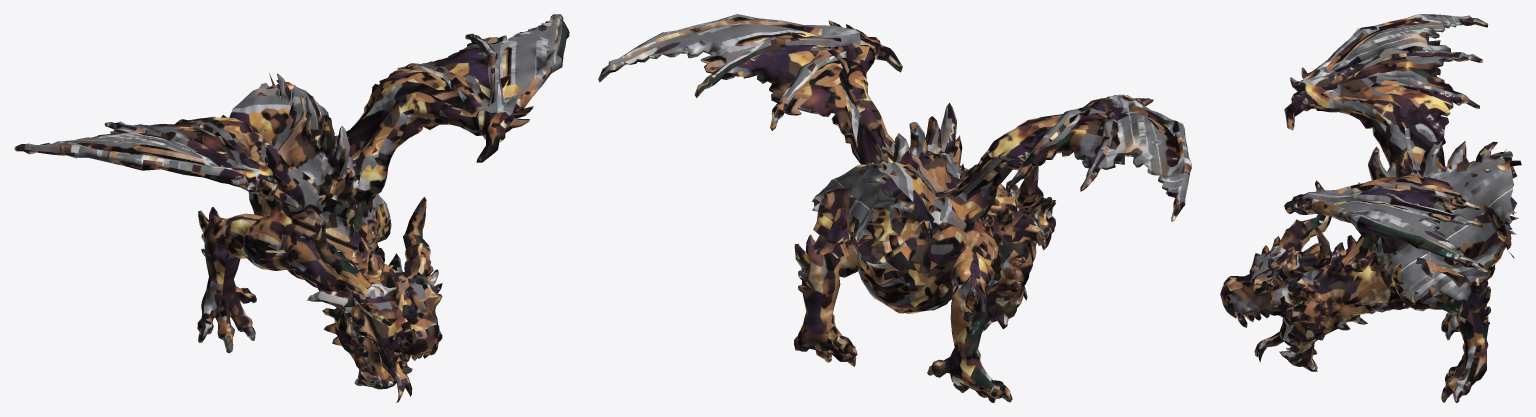
The model's file is H_Dragon.fbx.
3 renders of one model, left to right at view 1: azimuth 30°, elevation 25°; view 2: azimuth 150°, elevation 25°; view 3: azimuth 270°, elevation 25°, orthographic. The views are drawn at different scales.
Parts seen in each view (by area): view 1: Dragon; view 2: Dragon; view 3: Dragon.
Boxes of the visible parts, <box> form: Dragon: <box>14,14,569,402</box>; Dragon: <box>598,14,1191,402</box>; Dragon: <box>1220,14,1521,402</box>.
Bounding box in the file's own units: 114 × 53.56 × 59.17.
